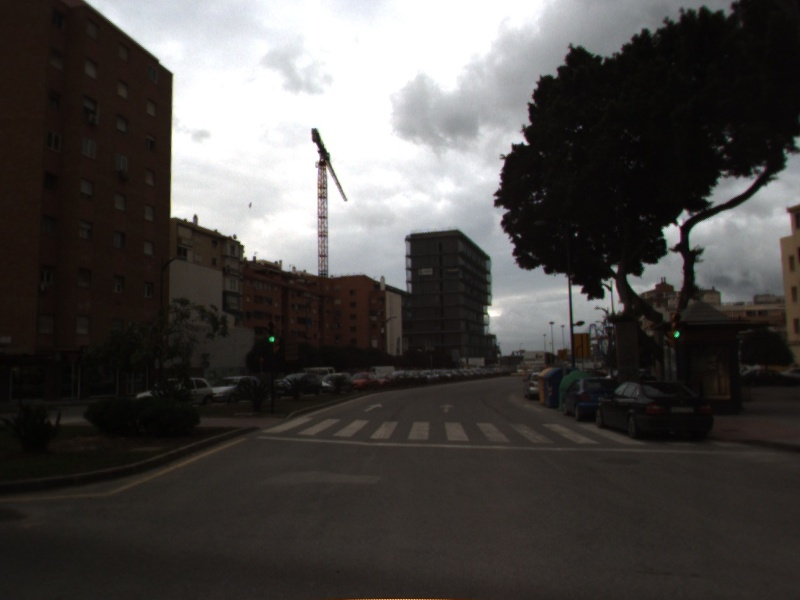STRAIGHT: (362, 401, 385, 414), (438, 402, 456, 414)
